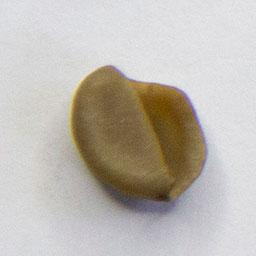defect: (67, 61, 211, 206)
